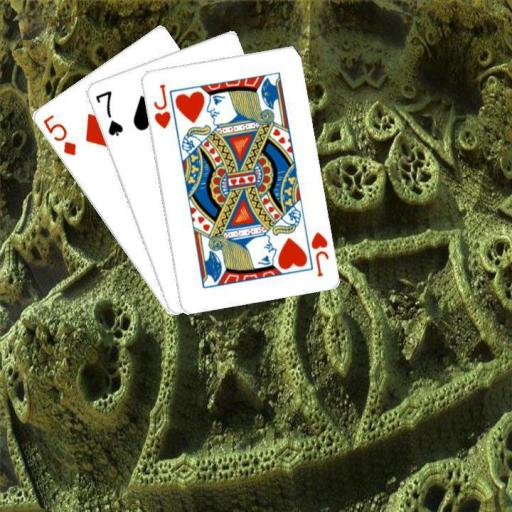card-corner: (39, 111, 78, 157), (92, 88, 124, 138), (307, 228, 330, 278), (150, 80, 172, 130)
